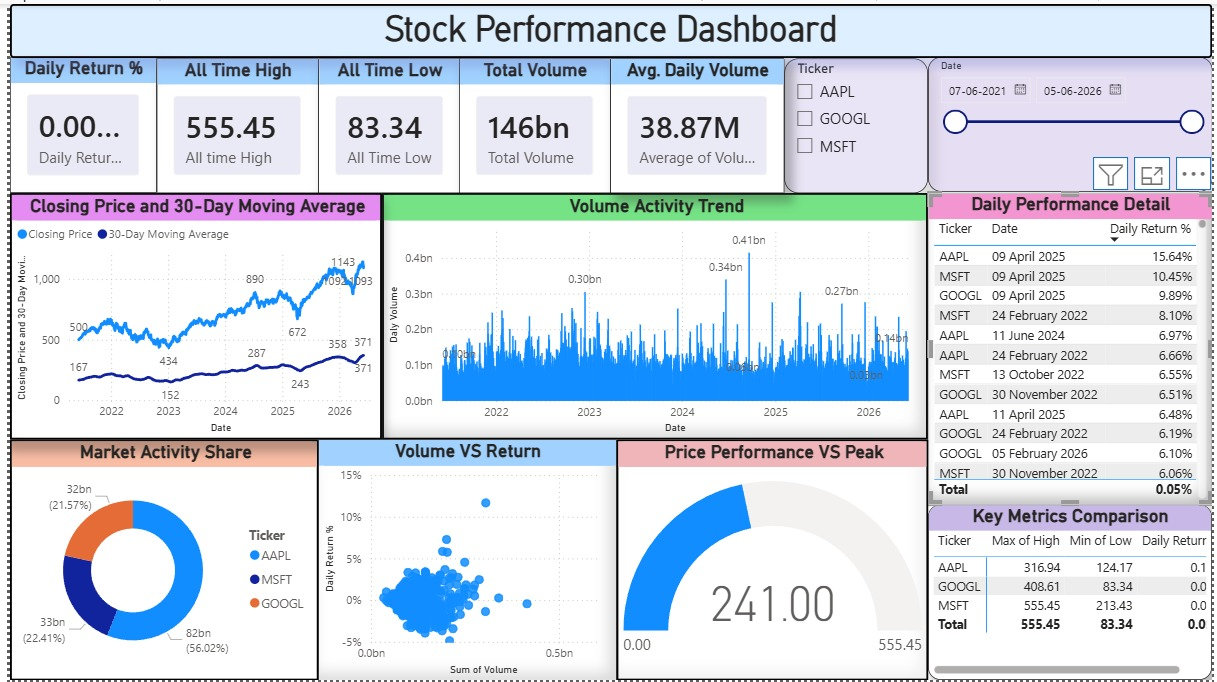

What the dashboard file says about the page in this screenshot:
{"tool":"powerbi","page":{"name":"Page 1","canvas":[1280,720],"ordinal":0},"visuals":[{"type":"slicer","fields":{"Values":["Master_Stock_Data.Ticker"]},"box":[1148.2,57.2,131.9,107],"z":0},{"type":"cardVisual","title":"Daily Return %","fields":{"Data":["Master_Stock_Data.Daily Return %"]},"box":[0,57,157,107],"z":1000},{"type":"cardVisual","title":"All Time High","fields":{"Data":["Max(Master_Stock_Data.High)"]},"box":[156.7,57.2,171.7,107],"z":2000},{"type":"cardVisual","title":"All Time Low","fields":{"Data":["Min(Master_Stock_Data.Low)"]},"box":[328.4,57.2,151.8,107],"z":3000},{"type":"cardVisual","title":"Total Volume","fields":{"Data":["Sum(Master_Stock_Data.Volume)"]},"box":[477.7,57.2,161.7,107],"z":4000},{"type":"slicer","fields":{"Values":["Calendar.Date"]},"box":[812.3,57.2,335.9,107],"z":5000},{"type":"clusteredColumnChart","title":"Volume Activity Trend","fields":{"Category":["Calendar.Date"],"Y":["Sum(Master_Stock_Data.Volume)"]},"box":[395.6,164.2,582.2,299.8],"z":6000},{"type":"pivotTable","title":"Key Metrics Comparison","fields":{"Values":["Max(Master_Stock_Data.High)","Min(Master_Stock_Data.Low)","Master_Stock_Data.Daily Return %"],"Rows":["Master_Stock_Data.Ticker"]},"box":[977.8,533.7,302.3,186.6],"z":7000},{"type":"donutChart","title":"Market Activity Share","fields":{"Y":["Sum(Master_Stock_Data.Volume)"],"Category":["Master_Stock_Data.Ticker"]},"box":[0,464,328.4,256.3],"z":8000},{"type":"tableEx","title":"Daily Performance Detail","fields":{"Values":["Master_Stock_Data.Ticker","Calendar.Date","Master_Stock_Data.Daily Return %"]},"box":[977.8,164.2,302.3,369.5],"z":9000},{"type":"lineChart","title":"Closing Price and 30-Day Moving Average","fields":{"Category":["Calendar.Date"],"Y":["Sum(Master_Stock_Data.Close)","Master_Stock_Data.30-Day Moving Average"]},"box":[0,164.2,395.6,299.8],"z":10000},{"type":"scatterChart","title":"Volume VS Return","fields":{"X":["Sum(Master_Stock_Data.Volume)"],"Y":["Master_Stock_Data.Daily Return %"],"Category":["Calendar.Date"]},"box":[328.4,464,317.2,256.3],"z":11000},{"type":"gauge","title":"Price Performance VS Peak","fields":{"Y":["Avg(Master_Stock_Data.Close)"],"MaxValue":["Max(Master_Stock_Data.High)"]},"box":[645.6,464,332.1,256.3],"z":12000},{"type":"textbox","box":[0,0,1280,57.2],"z":13000},{"type":"cardVisual","title":"Avg. Daily Volume","fields":{"Data":["Avg(Master_Stock_Data.Volume)"]},"box":[627,57.2,185.3,107],"z":14000}]}

Visuals, with their boxes in screenshot pixels (x1, y1, x2, y2), scaled from the page's 1280x720 canvas onto the 1217x682 screenshot:
slicer - Master_Stock_Data.Ticker: 1092/54/1216/156
"Daily Return %" cardVisual: 0/54/149/155
"All Time High" cardVisual: 149/54/312/156
"All Time Low" cardVisual: 312/54/457/156
"Total Volume" cardVisual: 454/54/608/156
slicer - Calendar.Date: 772/54/1092/156
"Volume Activity Trend" clusteredColumnChart: 376/156/930/440
"Key Metrics Comparison" pivotTable: 930/506/1216/681
"Market Activity Share" donutChart: 0/440/312/681
"Daily Performance Detail" tableEx: 930/156/1216/506
"Closing Price and 30-Day Moving Average" lineChart: 0/156/376/440
"Volume VS Return" scatterChart: 312/440/614/681
"Price Performance VS Peak" gauge: 614/440/930/681
textbox: 0/0/1216/54
"Avg. Daily Volume" cardVisual: 596/54/772/156
